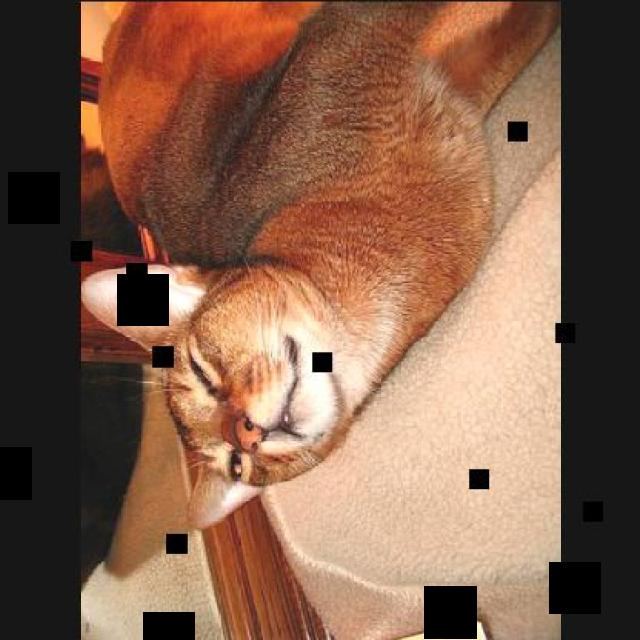unauthorized: (79, 0, 558, 531)
